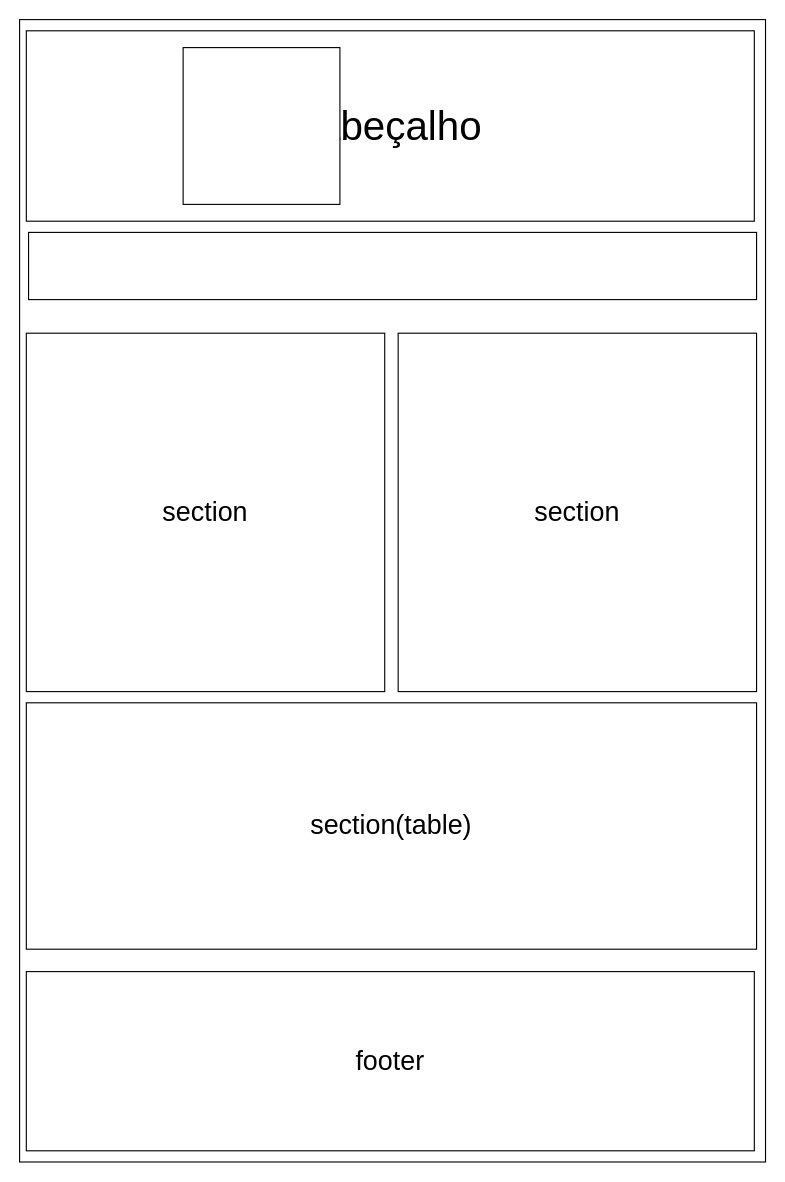
Image size: 785x1182. Some labels were removed from this diagram. The shapes that lost their labels are listed below. From the top down, each one's centre as x and y in pixels, then its label:
At point 261,125: "img".
At point 392,265: "navegação".
